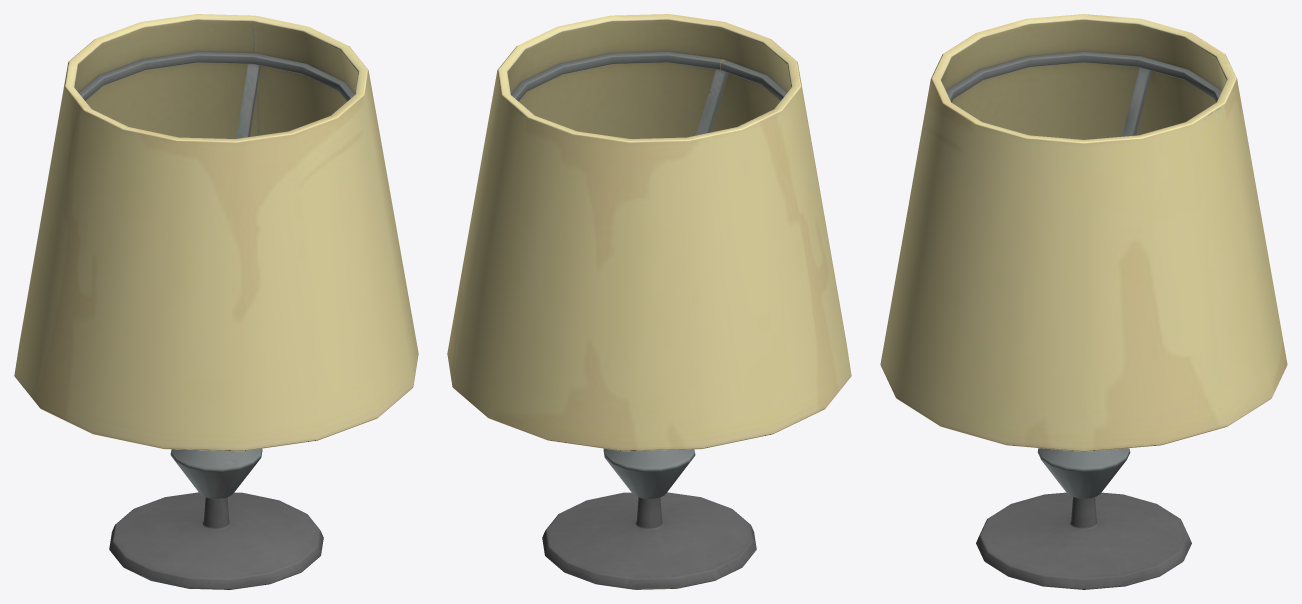
Rendered from SM_NightstandLamp001.glb.
3 views of the same model, side by side, from view 1: azimuth 30°, elevation 25°; view 2: azimuth 150°, elevation 25°; view 3: azimuth 270°, elevation 25° (orthographic).
Visible parts, largest first — view 1: SM_NightstandLamp001; view 2: SM_NightstandLamp001; view 3: SM_NightstandLamp001.
Part boxes in pixels (x1,y1,x2,y2): SM_NightstandLamp001: (14, 14, 418, 589); SM_NightstandLamp001: (447, 14, 851, 589); SM_NightstandLamp001: (880, 14, 1287, 589).
Bounding box in the file's own units: 0.7089 × 0.8965 × 0.7089.
Materials: 1 (1 with a texture image).
